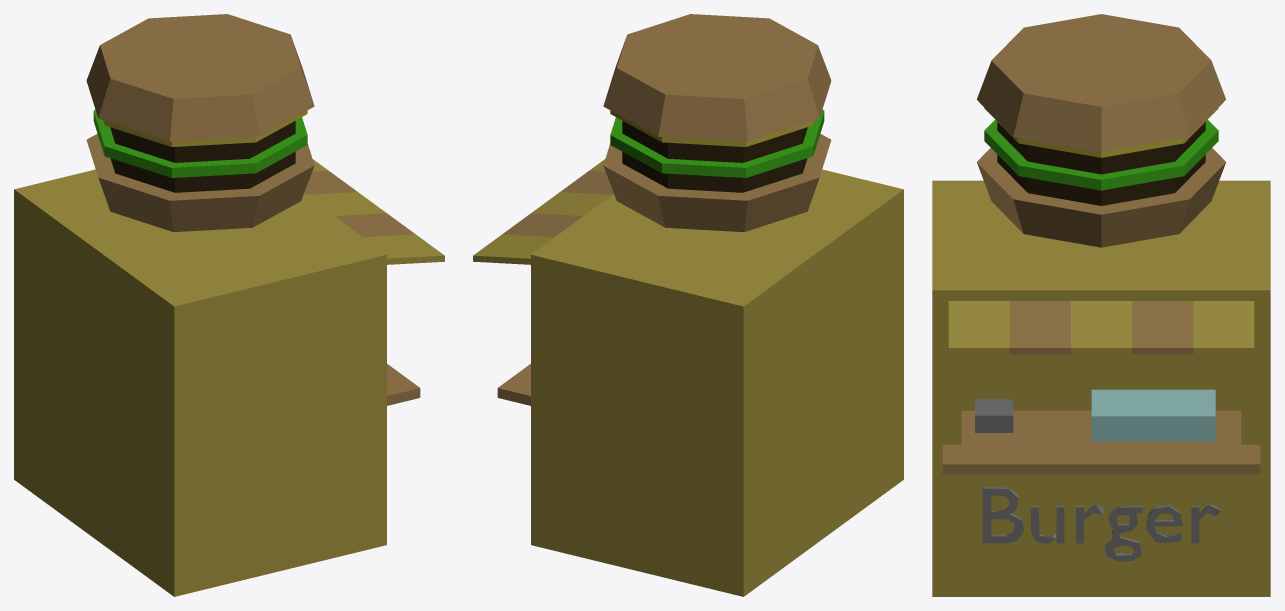
Rendered from BurgerShop.fbx.
3 views of the same model, side by side, from view 1: azimuth 30°, elevation 25°; view 2: azimuth 150°, elevation 25°; view 3: azimuth 270°, elevation 25° (orthographic). The views are drawn at different scales.
Parts seen in each view (by area): view 1: Cube, Cylinder, Cube.003; view 2: Cube, Cylinder, Cube.003; view 3: Cube, Cylinder, Cube.003, Cube.001, Cube.002.
Part boxes in pixels (x1,y1,x2,y2): Cube: [14, 169, 420, 596]; Cylinder: [86, 14, 314, 232]; Cube.003: [304, 159, 444, 264]; Cube: [497, 169, 903, 596]; Cylinder: [603, 14, 831, 231]; Cube.003: [473, 159, 613, 264]; Cube: [932, 180, 1270, 596]; Cylinder: [977, 14, 1225, 247]; Cube.003: [948, 301, 1254, 354]; Cube.001: [1091, 389, 1215, 441]; Cube.002: [975, 399, 1013, 432].
Bounding box in the file's own units: 179 × 280 × 178.
